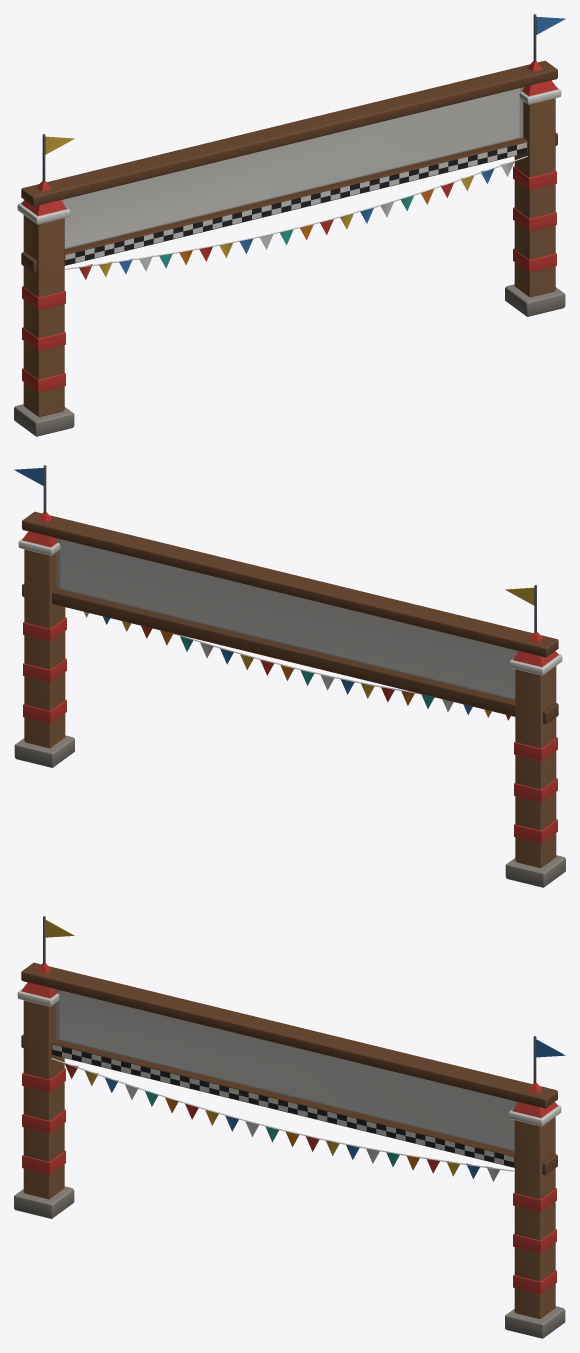
The model's file is prop.start_gate.glb.
3 renders of one model, top to bottom at view 1: azimuth 30°, elevation 25°; view 2: azimuth 150°, elevation 25°; view 3: azimuth 330°, elevation 25°, orthographic.
Parts seen in each view (by area): view 1: start_gate, banner; view 2: start_gate, banner; view 3: start_gate, banner.
Boxes of the visible parts, left/top/right/bottom form: start_gate: left=14, top=14, right=565, bottom=436; banner: left=63, top=88, right=519, bottom=247; start_gate: left=14, top=465, right=565, bottom=887; banner: left=60, top=539, right=516, bottom=698; start_gate: left=14, top=916, right=565, bottom=1338; banner: left=59, top=990, right=515, bottom=1149.
Size of the model in its own units: 22.05 by 11.3 by 1.6.
